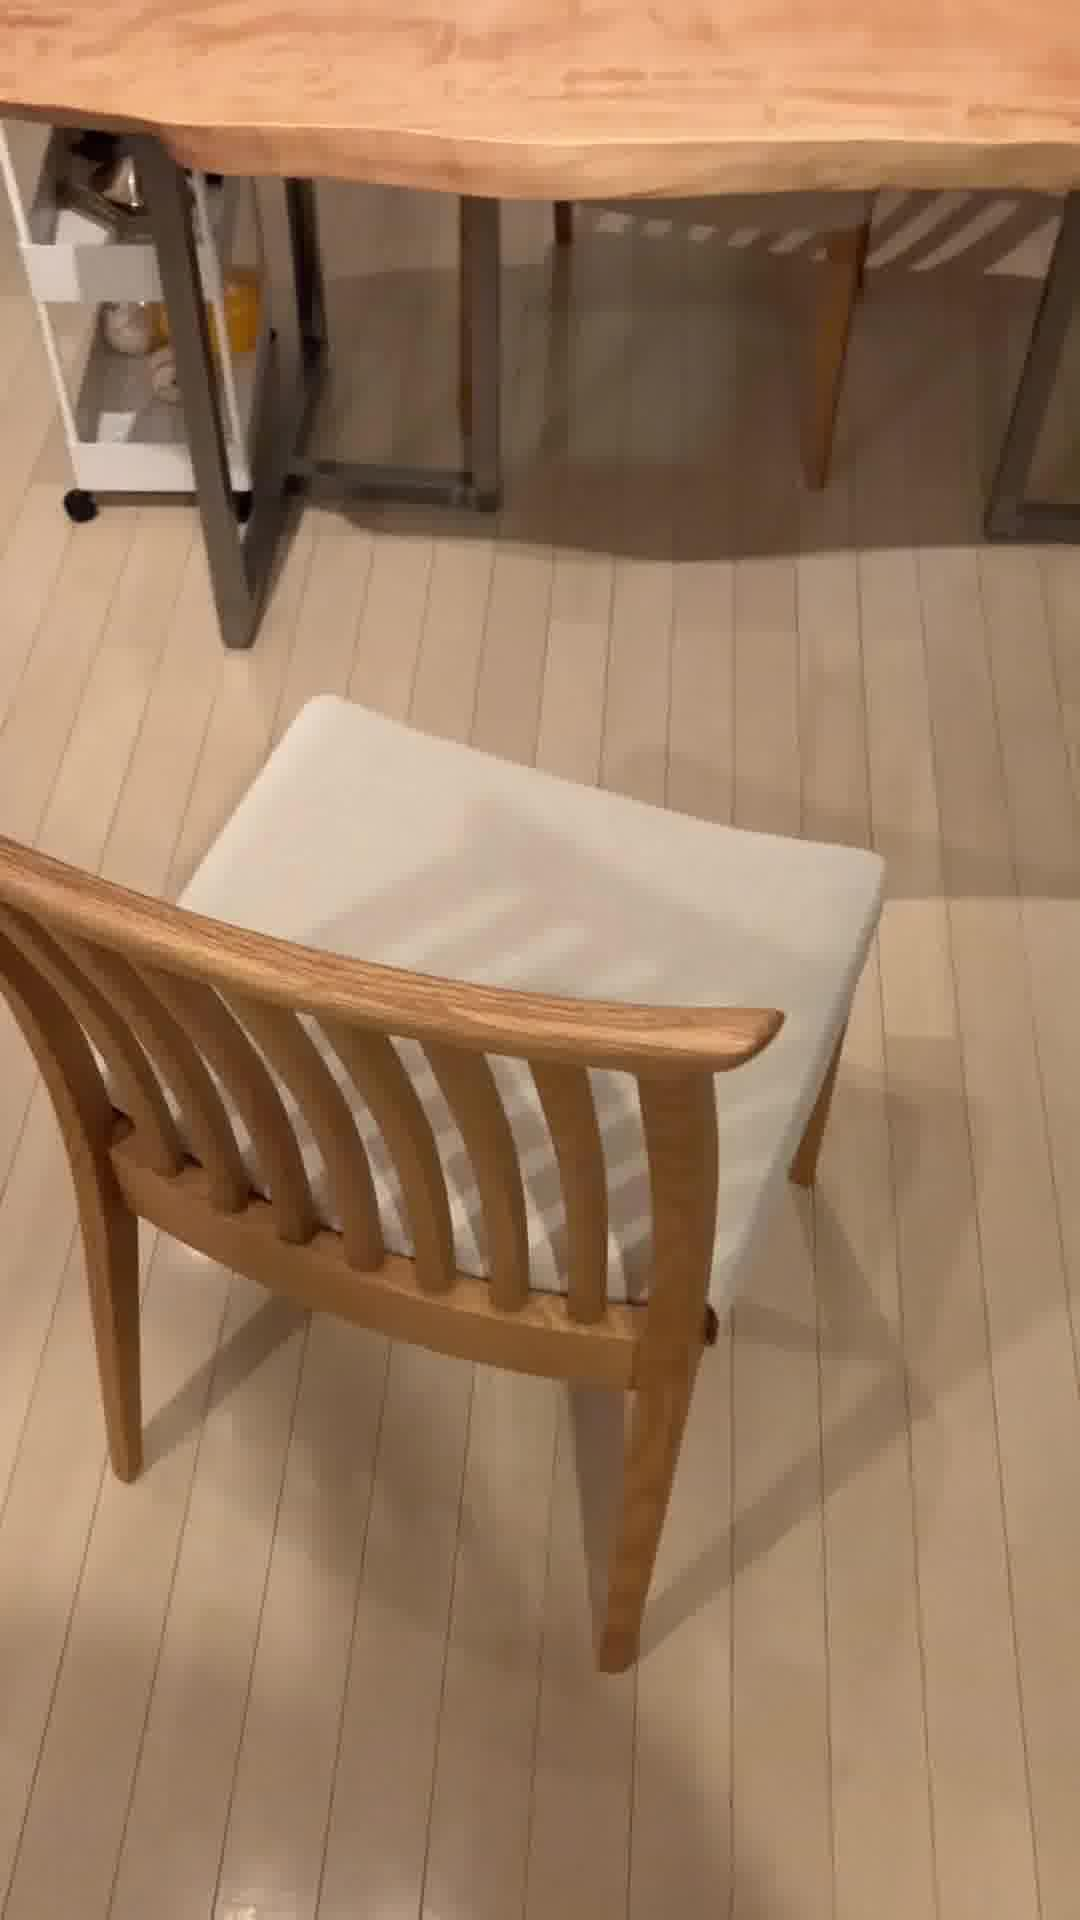takumikan-chair: (0, 686, 890, 1679)
